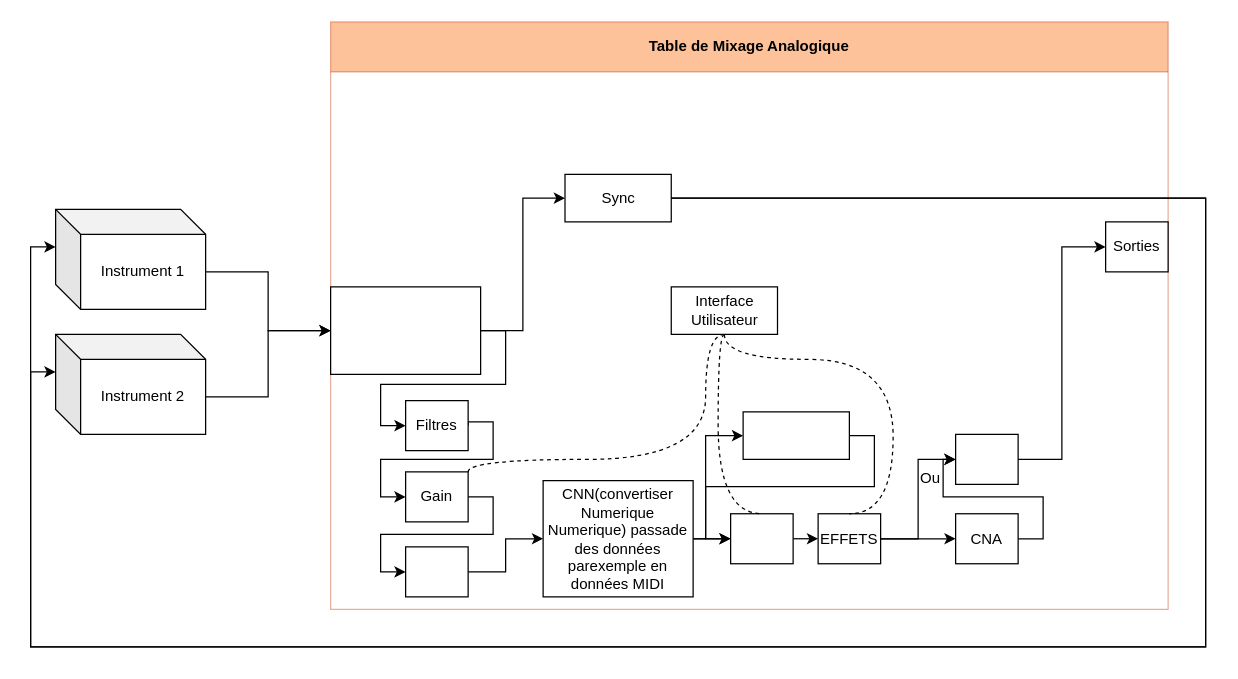
This 1238x679 diagram has some shape labels left out. Each missing label, with the box of its shape:
CAN: (404, 546, 468, 597)
Entrées Analogiques: (329, 286, 481, 374)
EQ: (729, 512, 793, 564)
Mixeur: (954, 433, 1018, 484)
Stockage: (742, 411, 849, 459)
